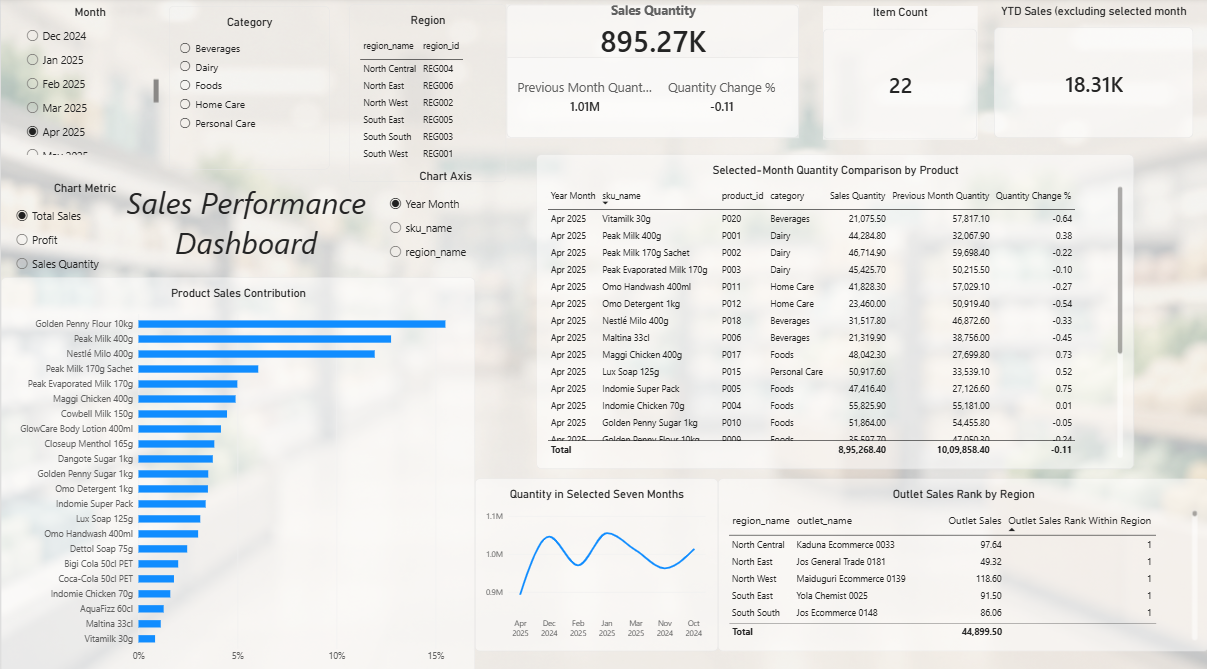

This screenshot's page, from the dashboard's own definition file:
{"tool":"powerbi","page":{"name":"Dashboard","canvas":[1920,1080],"ordinal":0},"visuals":[{"type":"listSlicer","title":"Category","fields":{"Values":["dim_product.category"]},"box":[267.2,14.3,255.3,260.1],"z":0},{"type":"slicer","title":"Month","fields":{"Values":["Month Selector.Year Month"]},"box":[33.4,14.3,217.1,236.2],"z":1},{"type":"tableEx","title":"Region","fields":{"Values":["dim_region.region_name","dim_region.region_id"]},"box":[553.5,11.9,250,281.8],"z":2},{"type":"cardVisual","fields":{"Data":["Measure.Sales Quantity"]},"box":[804,12.8,465.3,212.3],"z":3},{"type":"cardVisual","title":"Item Count","fields":{"Data":["Measure.Item Count"]},"box":[1307.5,14.3,245.7,212.3],"z":5},{"type":"lineChart","title":"Quantity in Selected Seven Months","fields":{"Category":["Date.Year Month"],"Y":["Measure.Quantity in Selected Seven Months"]},"box":[753.9,765.9,386.5,274.4],"z":6},{"type":"clusteredBarChart","title":"Product Sales Contribution","fields":{"Category":["dim_product.sku_name"],"Y":["Measure.Product Sales Contribution %"]},"box":[0,446.2,753.9,634.7],"z":7},{"type":"slicer","title":"Chart Axis","fields":{"Values":["Chart axis.Chart axis"]},"box":[610.8,274.4,193.3,171.8],"z":8},{"type":"slicer","title":"Chart Metric","fields":{"Values":["Chart Metric.Chart Metric"]},"box":[16.7,293.5,233.8,152.7],"z":9},{"type":"tableEx","title":"Outlet Sales Rank by Region","fields":{"Values":["dim_region.region_name","dim_outlet.outlet_name","Measure.Outlet Sales","Measure.Outlet Sales Rank Within Region"]},"box":[1140.5,765.9,780.2,274.4],"z":10},{"type":"tableEx","title":"Selected-Month Quantity Comparison by Product","fields":{"Values":["Month Selector.Year Month","dim_product.sku_name","dim_product.product_id","dim_product.category","Measure.Sales Quantity","Measure.Previous Month Quantity","Measure.Quantity Change %"]},"box":[851.8,250.5,950,500],"z":11},{"type":"textbox","box":[169.4,293.5,441.4,152.7],"z":12},{"type":"cardVisual","title":"YTD Sales (excluding selected month","fields":{"Data":["Measure.YTD Sales Excluding Selected Month"]},"box":[1579.5,11.9,317.3,212.3],"z":13}]}

Visuals, with their boxes in screenshot pixels (x1, y1, x2, y2), scaled from the page's 1920x1080 canvas onto the 1207x669 screenshot:
"Category" listSlicer: left=168, top=9, right=328, bottom=170
"Month" slicer: left=21, top=9, right=157, bottom=155
"Region" tableEx: left=348, top=7, right=505, bottom=182
cardVisual - Measure.Sales Quantity: left=505, top=8, right=798, bottom=139
"Item Count" cardVisual: left=822, top=9, right=976, bottom=140
"Quantity in Selected Seven Months" lineChart: left=474, top=474, right=717, bottom=644
"Product Sales Contribution" clusteredBarChart: left=0, top=276, right=474, bottom=668
"Chart Axis" slicer: left=384, top=170, right=505, bottom=276
"Chart Metric" slicer: left=10, top=182, right=157, bottom=276
"Outlet Sales Rank by Region" tableEx: left=717, top=474, right=1206, bottom=644
"Selected-Month Quantity Comparison by Product" tableEx: left=535, top=155, right=1133, bottom=465
textbox: left=106, top=182, right=384, bottom=276
"YTD Sales (excluding selected month" cardVisual: left=993, top=7, right=1192, bottom=139
